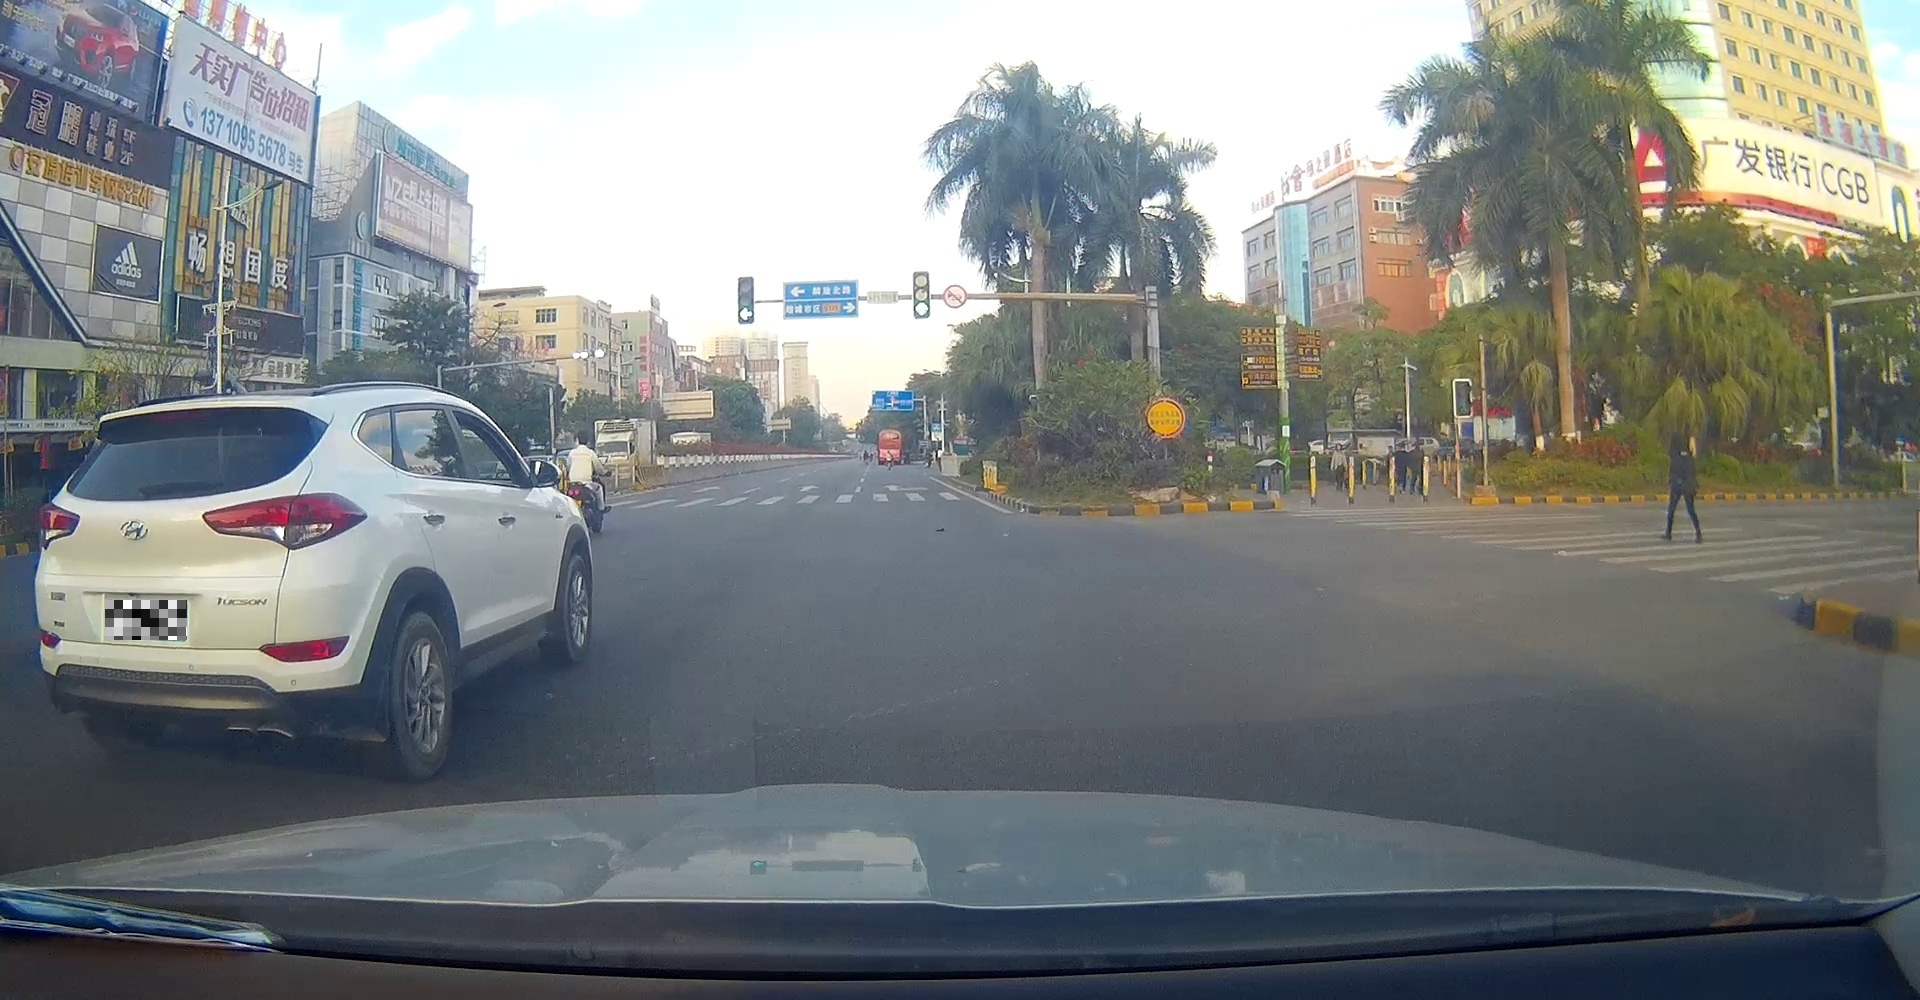L_light: (36, 497, 83, 549)
R_light: (201, 491, 370, 551)
T_light: (147, 406, 215, 424)
day-no: (34, 396, 377, 779)
plate_1: (105, 600, 187, 640)
